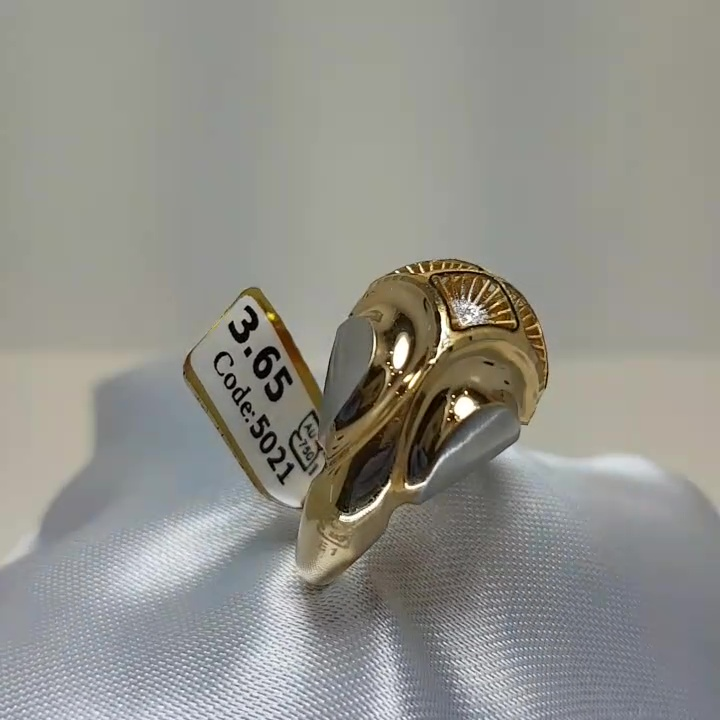Ring 2: (238, 239, 590, 584)
